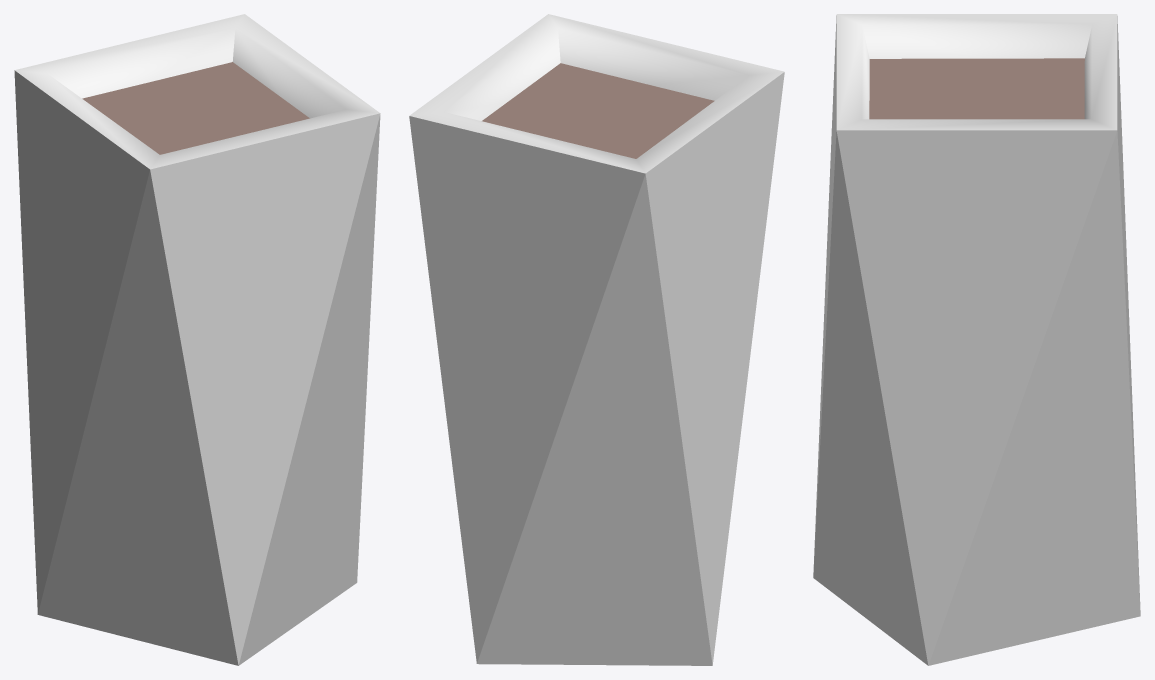
File: flowerpot_039.fbx
3 views of the same model, side by side, from view 1: azimuth 30°, elevation 25°; view 2: azimuth 150°, elevation 25°; view 3: azimuth 270°, elevation 25° (orthographic). The views are drawn at different scales.
Visible parts, largest first — view 1: flowerpot_039; view 2: flowerpot_039; view 3: flowerpot_039.
Part boxes in pixels (x1,y1,x2,y2): flowerpot_039: (14, 14, 380, 665); flowerpot_039: (409, 14, 784, 665); flowerpot_039: (813, 14, 1140, 665).
Size of the model in its own units: 34.45 by 34.65 by 61.28.
